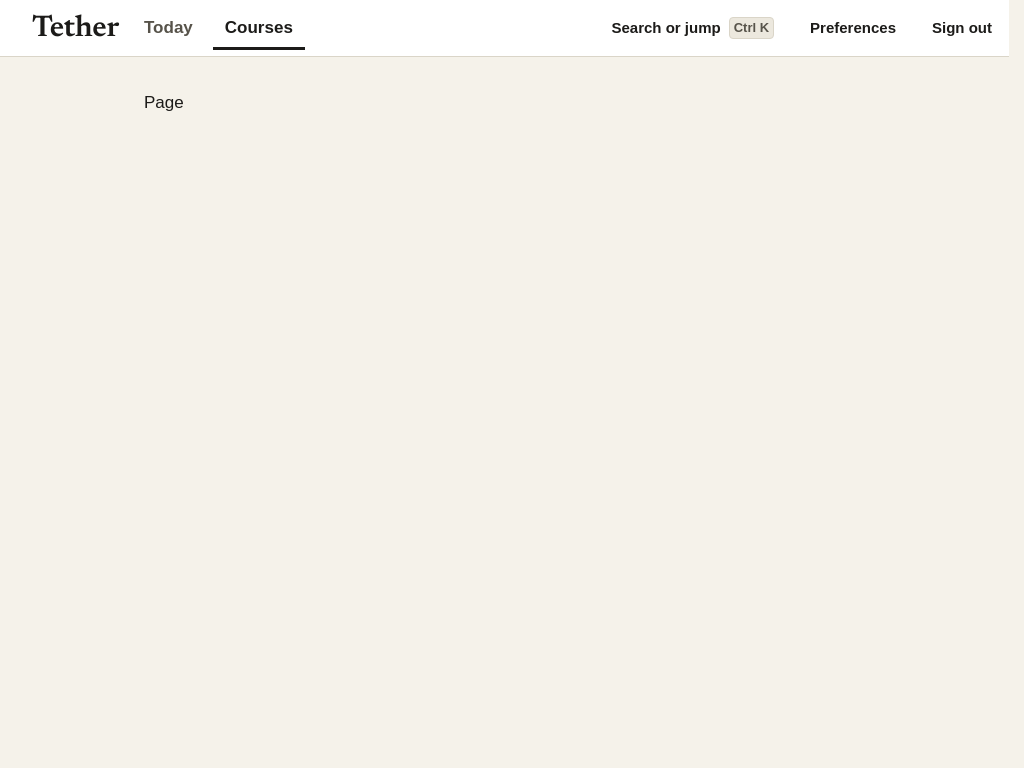
Test case: Preferences > Lectures (PO-19) › turning it Off stores direct for this user and says so; On removes the key and says so
Click the button "Preferences". click: (853, 28)
box: [796,6,910,50]
(page scrolled)
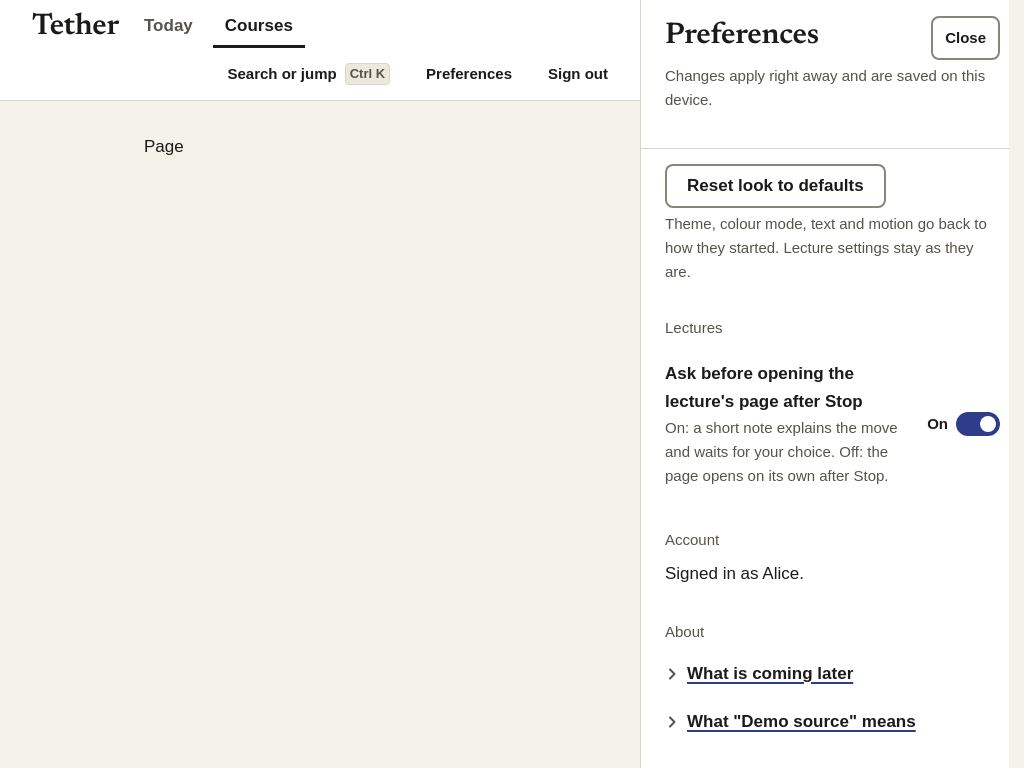
Click the switch labelled "Ask before opening the lecture's page after Stop". click: (832, 424)
box: [657,352,1008,496]
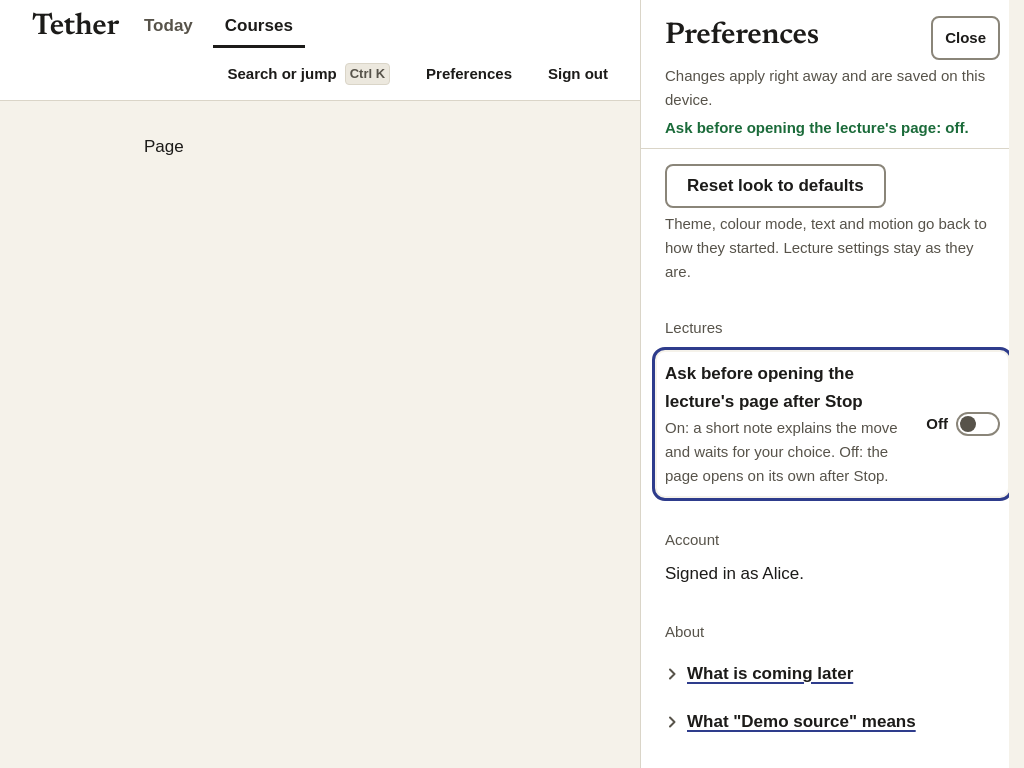
Expected: the message "Ask before opening the lecture's page: off." is shown, [665,116,1000,140]
Click the switch labelled "Ask before opening the lecture's page after Stop". click: (832, 424)
box: [657,352,1008,496]
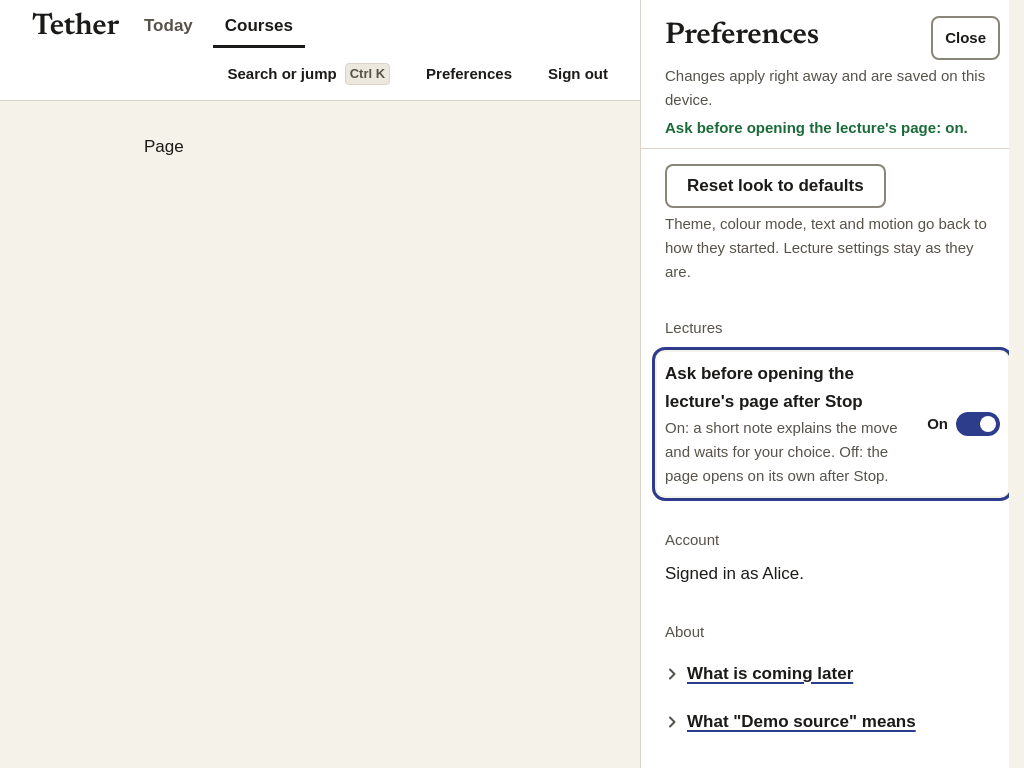
Expected: the message "Ask before opening the lecture's page: on." is shown, [665,116,1000,140]
